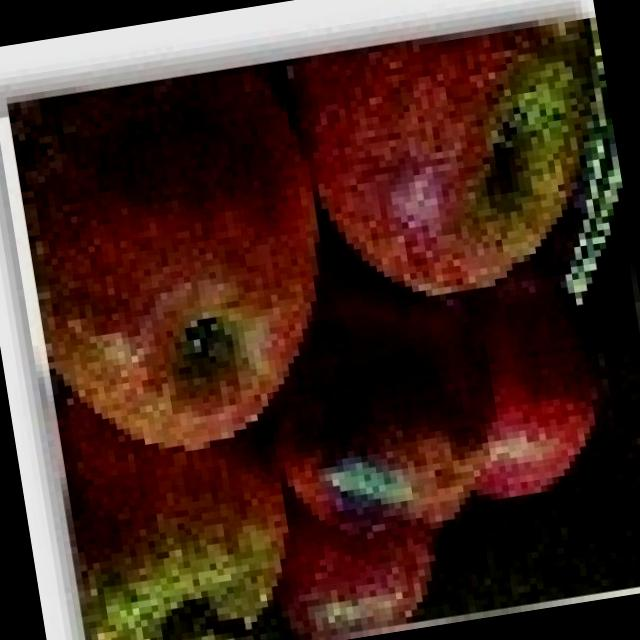Apple: (14, 64, 357, 476), (292, 19, 612, 313), (264, 260, 494, 554), (58, 373, 291, 640), (445, 272, 617, 504), (269, 498, 458, 640)
